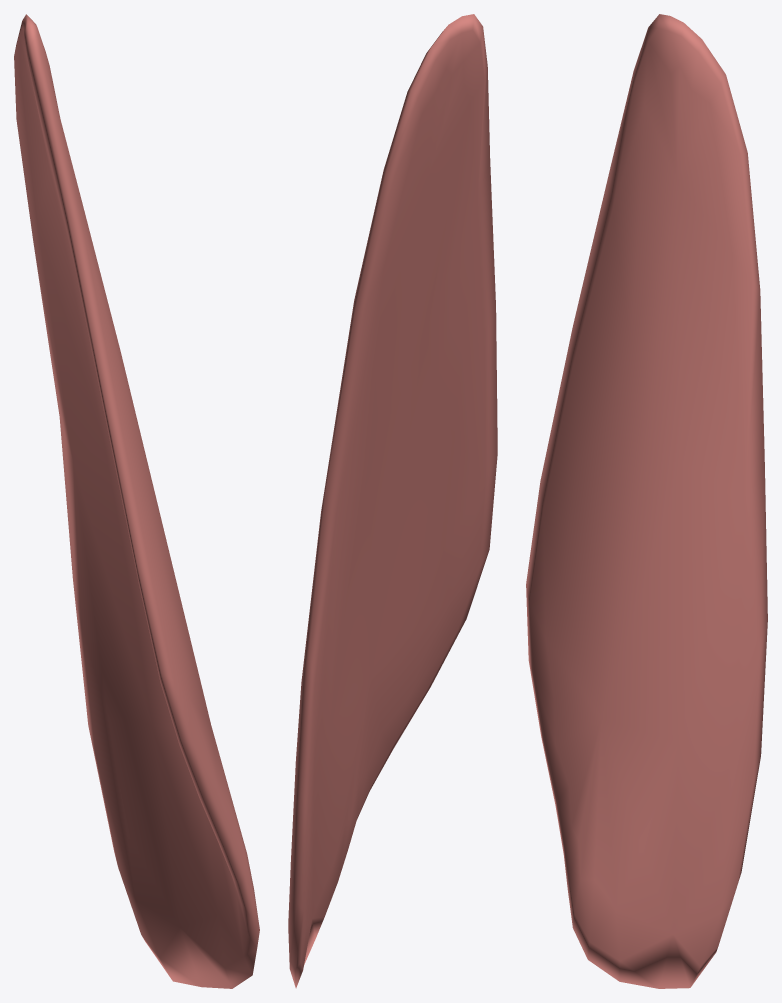
3 renders of one model, left to right at view 1: azimuth 30°, elevation 25°; view 2: azimuth 150°, elevation 25°; view 3: azimuth 270°, elevation 25°, orthographic. The views are drawn at different scales.
Parts seen in each view (by area): view 1: ZA_724aab7f49140e3c; view 2: ZA_724aab7f49140e3c; view 3: ZA_724aab7f49140e3c.
Part boxes in pixels (x1,y1,x2,y2): ZA_724aab7f49140e3c: [14, 14, 259, 988]; ZA_724aab7f49140e3c: [288, 14, 497, 988]; ZA_724aab7f49140e3c: [526, 14, 767, 988].
Size of the model in its own units: 0.00526 by 0.0266 by 0.00644.
